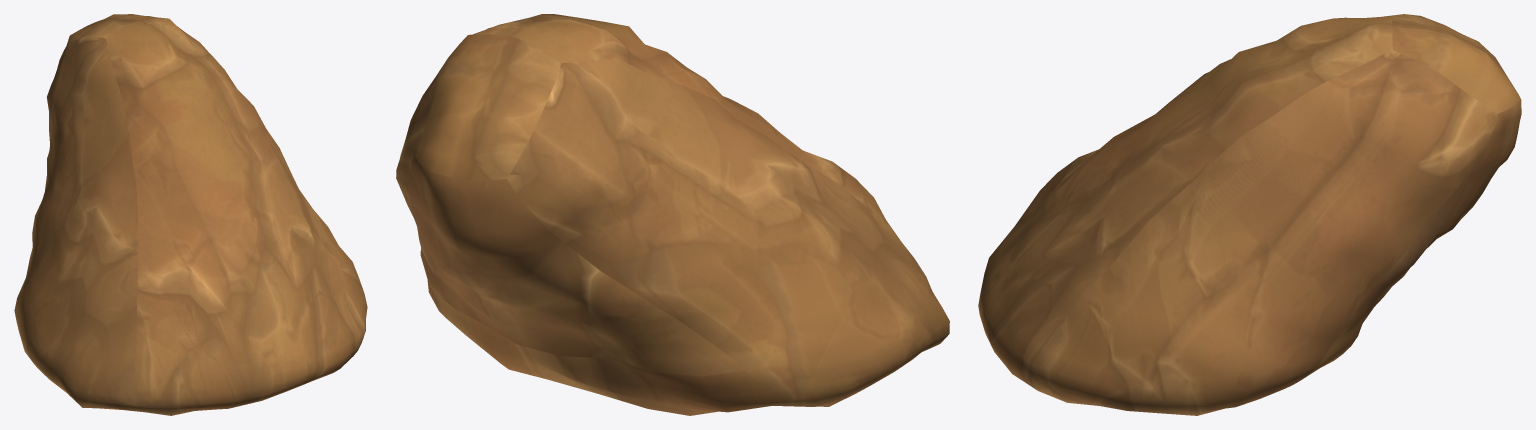
Rendered from Low_islands2.fbx.
3 views of the same model, side by side, from view 1: azimuth 30°, elevation 25°; view 2: azimuth 150°, elevation 25°; view 3: azimuth 270°, elevation 25° (orthographic). The views are drawn at different scales.
Parts seen in each view (by area): view 1: Cube.001; view 2: Cube.001; view 3: Cube.001.
Boxes of the visible parts, x1=… form: Cube.001: x1=14, y1=14, x2=367, y2=415; Cube.001: x1=396, y1=14, x2=949, y2=415; Cube.001: x1=978, y1=14, x2=1521, y2=415.
Size of the model in its own units: 1280 by 1121 by 1548.
Materials: 1 (1 with a texture image).
